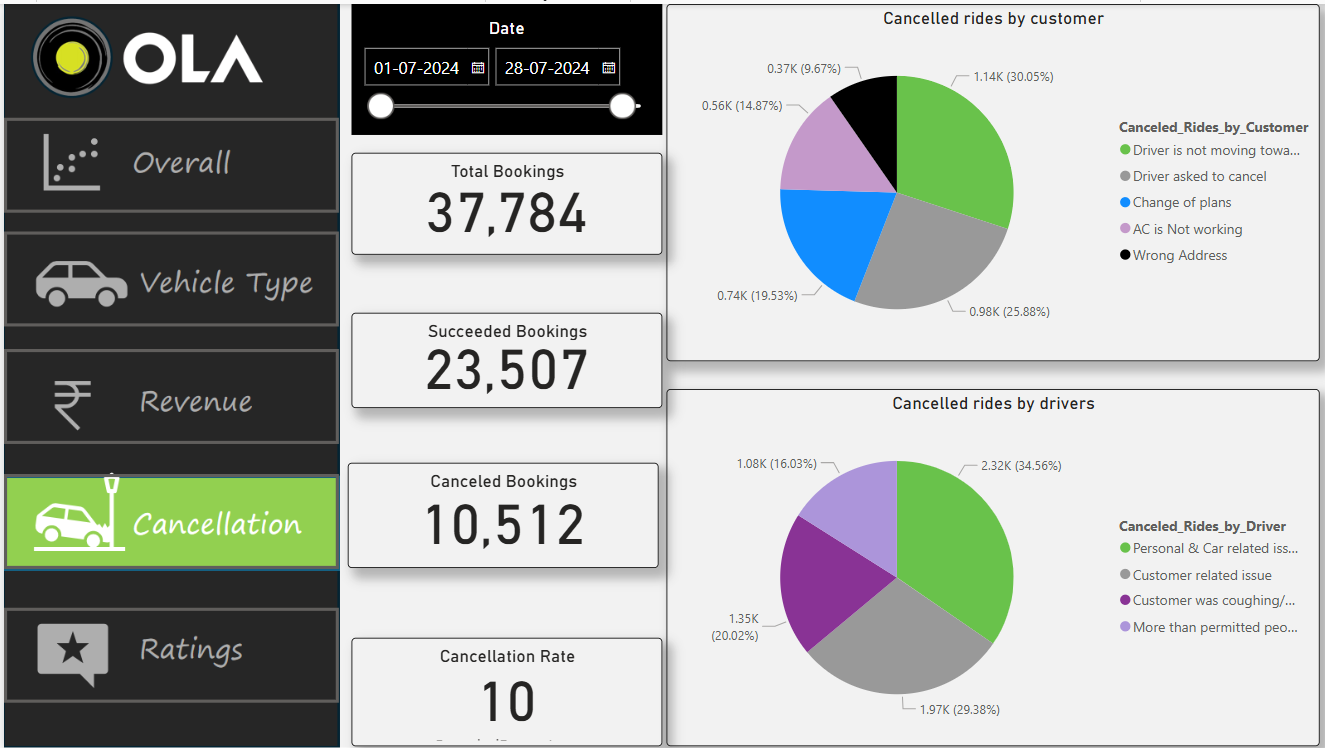

The page's visual inventory and layout, read from the dashboard file:
{"tool":"powerbi","page":{"name":"Cancellation","canvas":[1280,720],"ordinal":3},"visuals":[{"type":"actionButton","box":[0,219.6,323.3,91.7],"z":0},{"type":"actionButton","box":[0,333,323.3,91.7],"z":1000},{"type":"actionButton","box":[0,453.6,323.3,91.7],"z":2000},{"type":"actionButton","box":[0,582.7,323.3,91.7],"z":3000},{"type":"actionButton","box":[0,109.8,323.3,91.7],"z":4000},{"type":"pieChart","title":"Cancelled rides by customer","fields":{"Category":["July.Canceled_Rides_by_Customer"],"Y":["CountNonNull(July.Canceled_Rides_by_Customer)"]},"box":[640,0,630,345],"z":5000},{"type":"pieChart","title":"Cancelled rides by drivers","fields":{"Category":["July.Canceled_Rides_by_Driver"],"Y":["CountNonNull(July.Canceled_Rides_by_Driver)"]},"box":[640,371.7,630,345],"z":6000},{"type":"slicer","title":"Date","fields":{"Values":["July.Date"]},"box":[335,0,300,126.7],"z":7000},{"type":"card","title":"Total Bookings","fields":{"Values":["CountNonNull(July.Booking_ID)"]},"box":[335,143.3,300,98.3],"z":8000},{"type":"card","title":"Succeeded Bookings","fields":{"Values":["CountNonNull(July.Booking_ID)"]},"box":[335,298.3,300,91.7],"z":9000},{"type":"card","title":"Canceled Bookings","fields":{"Values":["CountNonNull(July.Booking_ID)"]},"box":[331.7,443.3,300,101.7],"z":10000},{"type":"card","title":"Cancellation Rate","fields":{"Values":["July.CanceledPercentage"]},"box":[335,611.7,300,105],"z":11000}]}

Visuals, with their boxes in screenshot pixels (x1, y1, x2, y2), scaled from the page's 1280x720 canvas onto the 1325x748 screenshot:
actionButton: Rect(0, 228, 335, 323)
actionButton: Rect(0, 346, 335, 441)
actionButton: Rect(0, 471, 335, 567)
actionButton: Rect(0, 605, 335, 701)
actionButton: Rect(0, 114, 335, 209)
"Cancelled rides by customer" pieChart: Rect(662, 0, 1315, 358)
"Cancelled rides by drivers" pieChart: Rect(662, 386, 1315, 745)
"Date" slicer: Rect(347, 0, 657, 132)
"Total Bookings" card: Rect(347, 149, 657, 251)
"Succeeded Bookings" card: Rect(347, 310, 657, 405)
"Canceled Bookings" card: Rect(343, 461, 654, 566)
"Cancellation Rate" card: Rect(347, 635, 657, 745)
